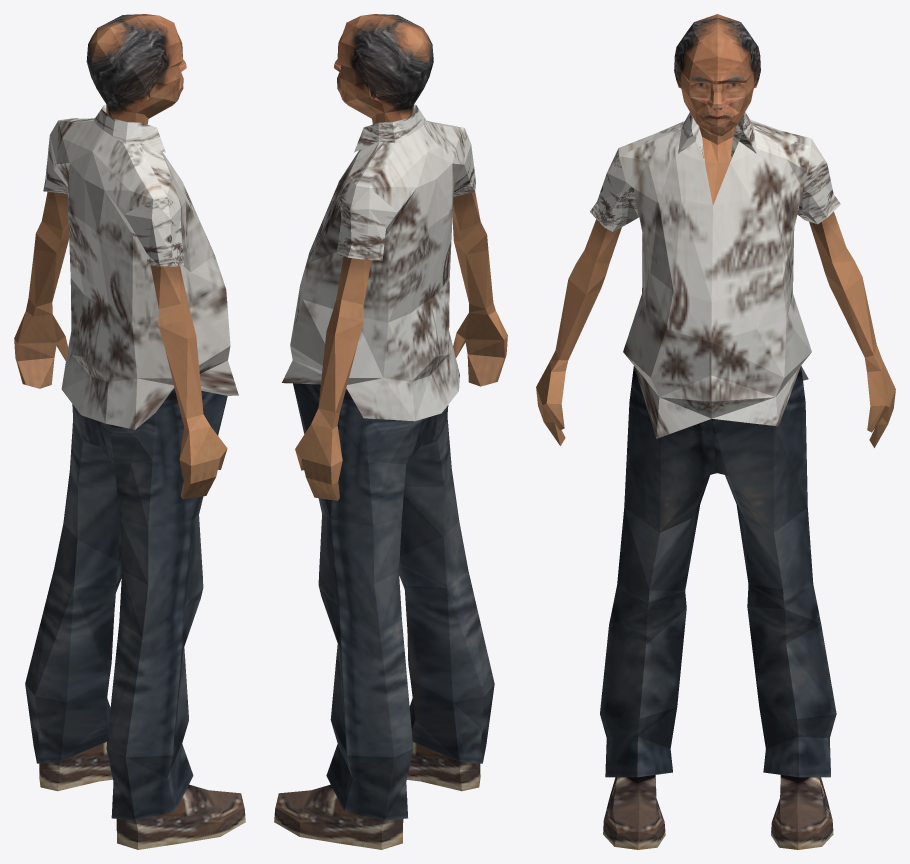
Rendered from somost.obj.
The picture shows the model from 3 angles, left to right: view 1: azimuth 30°, elevation 25°; view 2: azimuth 150°, elevation 25°; view 3: azimuth 270°, elevation 25°; orthographic projection.
Parts seen in each view (by area): view 1: _Pelvis; view 2: _Pelvis; view 3: _Pelvis.
Part boxes in pixels (box(x1,y1,x2,y2)): _Pelvis: box(14, 14, 245, 849); _Pelvis: box(274, 14, 507, 849); _Pelvis: box(536, 14, 895, 849).
Bounding box in the file's own units: 0.3417 × 1.69 × 0.6912.
Materials: 1 (1 with a texture image).
